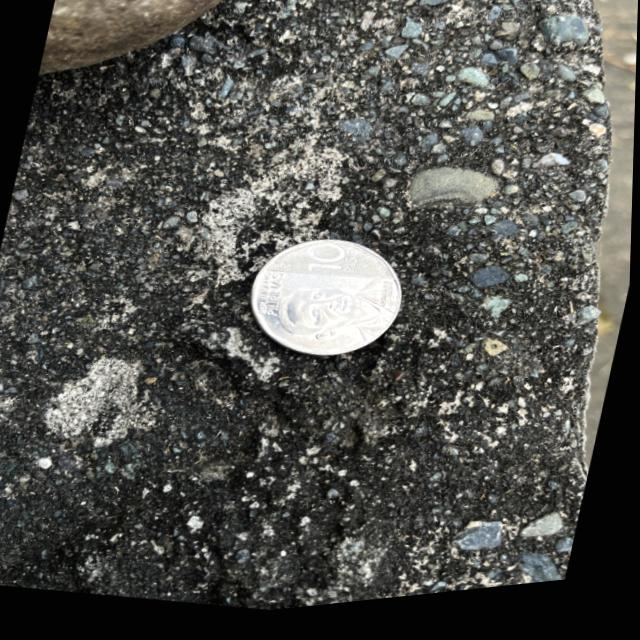10_New_Front: (289, 242, 362, 298)
